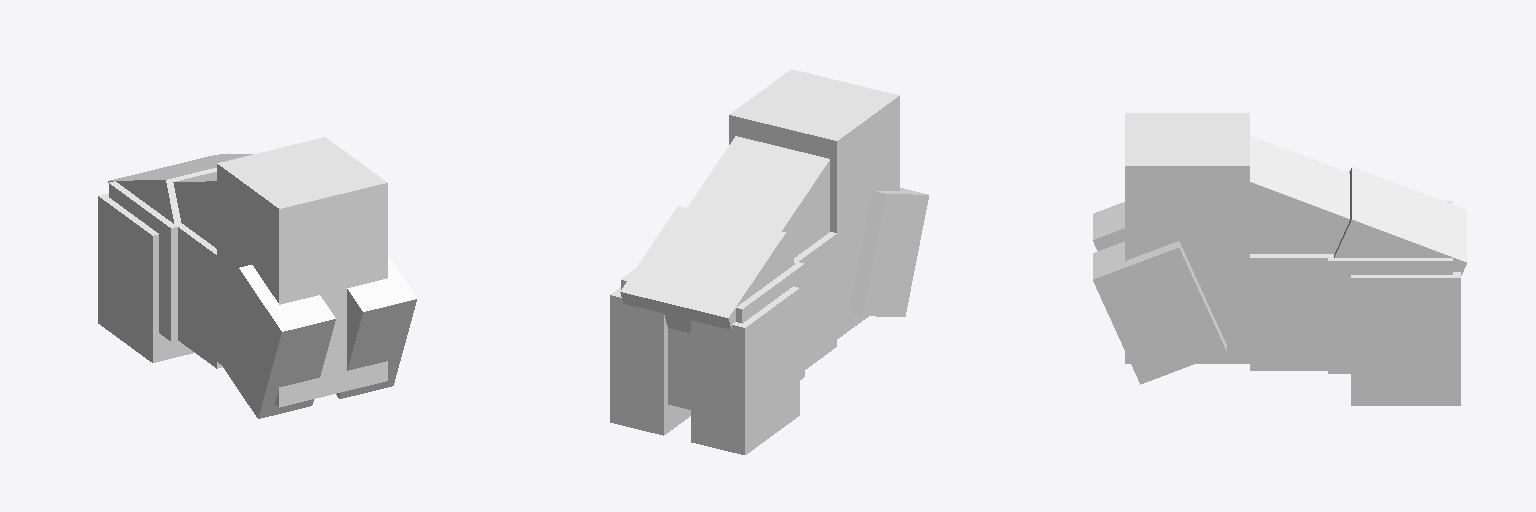
File: giraffe_body.obj
3 views of the same model, side by side, from view 1: azimuth 30°, elevation 25°; view 2: azimuth 150°, elevation 25°; view 3: azimuth 270°, elevation 25° (orthographic).
Parts seen in each view (by area): view 1: Element #38, Element #26, Element #24, Element #20, Element #33, Element #37, Element #34, Element #30; view 2: Element #38, Element #24, Element #34, Element #30, Element #28, Element #26, Element #33, Element #37; view 3: Element #38, Element #28, Element #20, Element #30, Element #33, Element #34, Element #37, Element #26.
Part boxes in pixels (x1,y1,x2,y2): Element #38: (217, 137, 387, 407); Element #26: (215, 265, 335, 418); Element #24: (98, 193, 194, 362); Element #20: (336, 256, 416, 398); Element #33: (178, 223, 222, 368); Element #37: (109, 153, 230, 341); Element #34: (108, 154, 252, 223); Element #30: (173, 172, 216, 248); Element #38: (729, 69, 899, 338); Element #24: (691, 286, 799, 454); Element #34: (620, 206, 794, 332); Element #30: (687, 136, 829, 258); Element #28: (610, 287, 690, 435); Element #26: (849, 188, 928, 316); Element #33: (794, 232, 836, 369); Element #37: (621, 262, 804, 409); Element #38: (1125, 113, 1249, 363); Element #28: (1351, 272, 1460, 405); Element #20: (1093, 241, 1226, 384); Element #30: (1250, 136, 1349, 253); Element #33: (1250, 254, 1333, 370); Element #34: (1334, 167, 1466, 275); Element #37: (1328, 201, 1452, 373); Element #26: (1093, 202, 1124, 250).
Size of the model in its own units: 10 by 16.5 by 23.98.